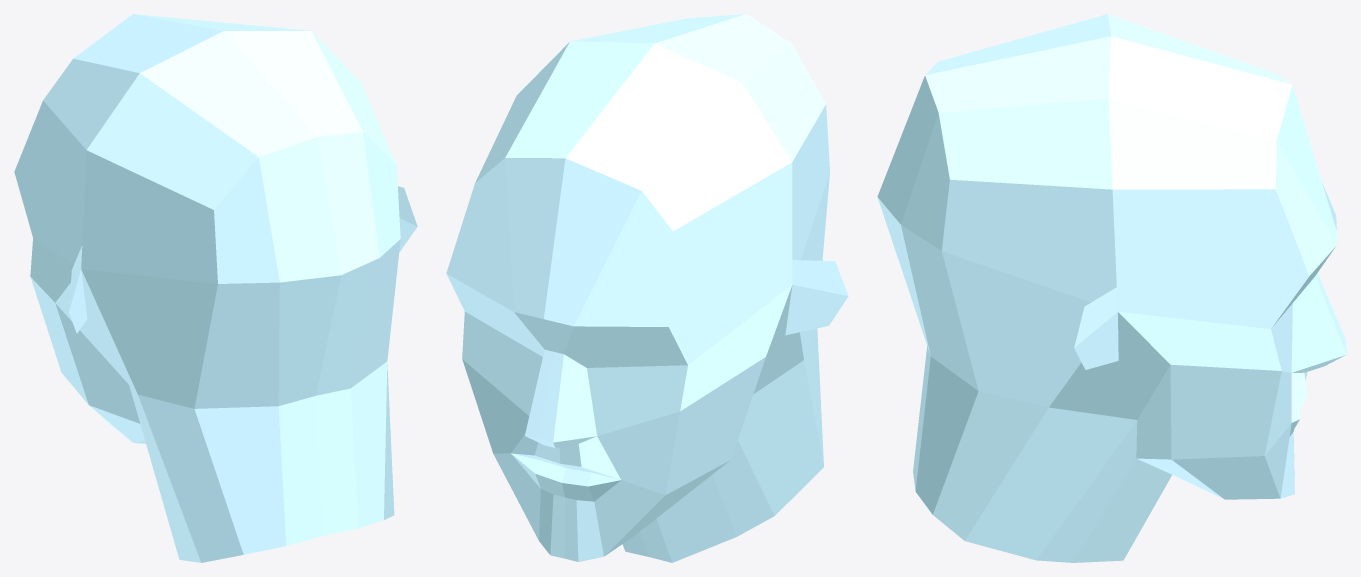
Rendered from head.glb.
3 renders of one model, left to right at view 1: azimuth 30°, elevation 25°; view 2: azimuth 150°, elevation 25°; view 3: azimuth 270°, elevation 25°, orthographic.
Visible parts, largest first — view 1: Plane; view 2: Plane; view 3: Plane.
Boxes of the visible parts, x1=… form: Plane: x1=14, y1=14, x2=417, y2=562; Plane: x1=446, y1=14, x2=848, y2=562; Plane: x1=877, y1=14, x2=1346, y2=562.
Bounding box in the file's own units: 0.3148 × 0.4389 × 0.3637.
